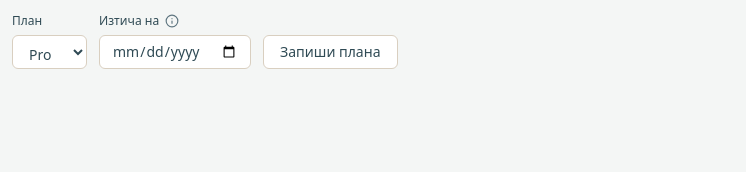
Test: PlanForm › shows the action message on failure without refreshing
Click the button "Запиши плана" at (330, 52), box [263,35,398,69]
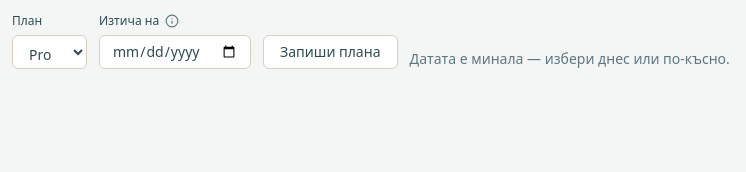
Result: the message reads "Датата е минала — избери днес или по-късно." at [410,49,730,68]
